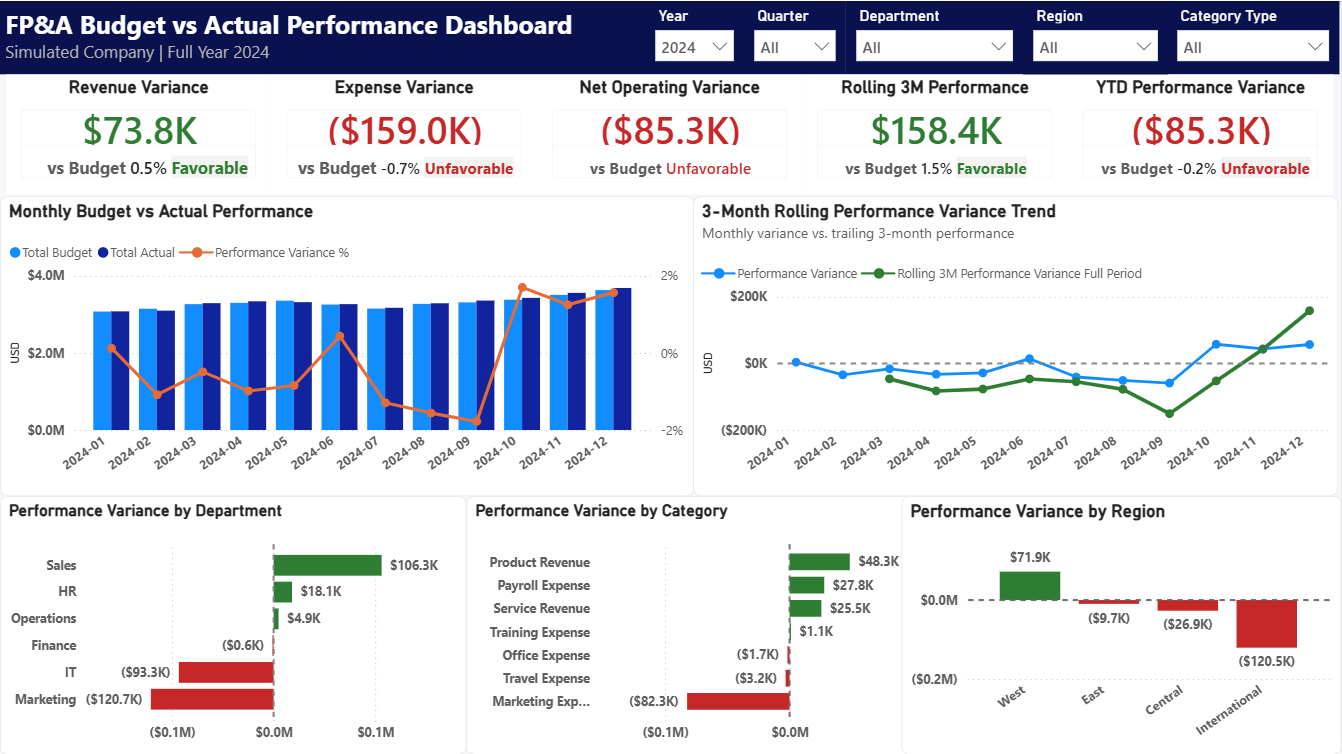

What the dashboard file says about the page in this screenshot:
{"tool":"powerbi","page":{"name":"Executive Overview","canvas":[1280,720],"ordinal":0},"visuals":[{"type":"textbox","box":[0,0,615.9,70.2],"z":0},{"type":"slicer","fields":{"Values":["Dim Calendar.Quarter"]},"box":[710.5,0,97.4,70.2],"z":1000},{"type":"slicer","fields":{"Values":["Dim Calendar.Year"]},"box":[615.9,0,94.5,70.2],"z":2000},{"type":"slicer","fields":{"Values":["Fact Variance.department_name"]},"box":[807.9,0,169,70.2],"z":3000},{"type":"slicer","fields":{"Values":["Fact Variance.region_name"]},"box":[976.9,0,138.6,70.9],"z":4000},{"type":"slicer","fields":{"Values":["Fact Variance.category_type"]},"box":[1114.4,0,164.7,70.2],"z":5000},{"type":"cardVisual","title":"Revenue Variance","fields":{"Data":["_Measures.Revenue Variance"]},"box":[5.7,70.2,253.5,114.6],"z":6000},{"type":"cardVisual","title":"Expense Variance","fields":{"Data":["_Measures.Expense Variance"]},"box":[259.3,70.2,253.5,114.6],"z":7000},{"type":"cardVisual","title":"Net Operating Variance","fields":{"Data":["_Measures.Net Operating Variance"]},"box":[512.8,70.2,253.5,114.6],"z":8000},{"type":"cardVisual","title":"Rolling 3M Performance","fields":{"Data":["_Measures.Rolling 3M Performance Variance Full Period"]},"box":[766.3,70.2,253.5,114.6],"z":9000},{"type":"cardVisual","title":"YTD Performance Variance","fields":{"Data":["_Measures.YTD Performance Variance"]},"box":[1019.9,70.2,253.5,114.6],"z":10000},{"type":"lineClusteredColumnComboChart","title":"Monthly Budget vs Actual Performance","fields":{"Y":["_Measures.Total Budget","_Measures.Total Actual"],"Y2":["_Measures.Performance Variance %"],"Category":["Dim Calendar.Year Month"]},"box":[0,186.2,663.2,286.5],"z":11000},{"type":"lineChart","title":"3-Month Rolling Performance Variance Trend","fields":{"Category":["Dim Calendar.Year Month"],"Y":["_Measures.Performance Variance","_Measures.Rolling 3M Performance Variance Full Period"]},"box":[661.8,186.2,615.9,286.5],"z":12000},{"type":"clusteredBarChart","title":"Performance Variance by Department","fields":{"Y":["_Measures.Performance Variance"],"Category":["Fact Variance.department_name"]},"box":[0,472.7,445.5,247.8],"z":13000},{"type":"clusteredBarChart","title":"Performance Variance by Category","fields":{"Category":["Fact Variance.category_name"],"Y":["_Measures.Performance Variance"]},"box":[445.5,472.7,448.3,247.8],"z":14000},{"type":"clusteredColumnChart","title":"Performance Variance by Region","fields":{"Category":["Fact Variance.region_name"],"Y":["_Measures.Performance Variance"]},"box":[860.9,472.7,419.7,247.8],"z":15000}]}

Visuals, with their boxes in screenshot pixels (x1, y1, x2, y2), scaled from the page's 1280x720 canvas onto the 1342x754 screenshot:
textbox: bbox(0, 0, 646, 74)
slicer - Dim Calendar.Quarter: bbox(745, 0, 847, 74)
slicer - Dim Calendar.Year: bbox(646, 0, 745, 74)
slicer - Fact Variance.department_name: bbox(847, 0, 1024, 74)
slicer - Fact Variance.region_name: bbox(1024, 0, 1170, 74)
slicer - Fact Variance.category_type: bbox(1168, 0, 1341, 74)
"Revenue Variance" cardVisual: bbox(6, 74, 272, 194)
"Expense Variance" cardVisual: bbox(272, 74, 538, 194)
"Net Operating Variance" cardVisual: bbox(538, 74, 803, 194)
"Rolling 3M Performance" cardVisual: bbox(803, 74, 1069, 194)
"YTD Performance Variance" cardVisual: bbox(1069, 74, 1335, 194)
"Monthly Budget vs Actual Performance" lineClusteredColumnComboChart: bbox(0, 195, 695, 495)
"3-Month Rolling Performance Variance Trend" lineChart: bbox(694, 195, 1340, 495)
"Performance Variance by Department" clusteredBarChart: bbox(0, 495, 467, 753)
"Performance Variance by Category" clusteredBarChart: bbox(467, 495, 937, 753)
"Performance Variance by Region" clusteredColumnChart: bbox(903, 495, 1341, 753)
